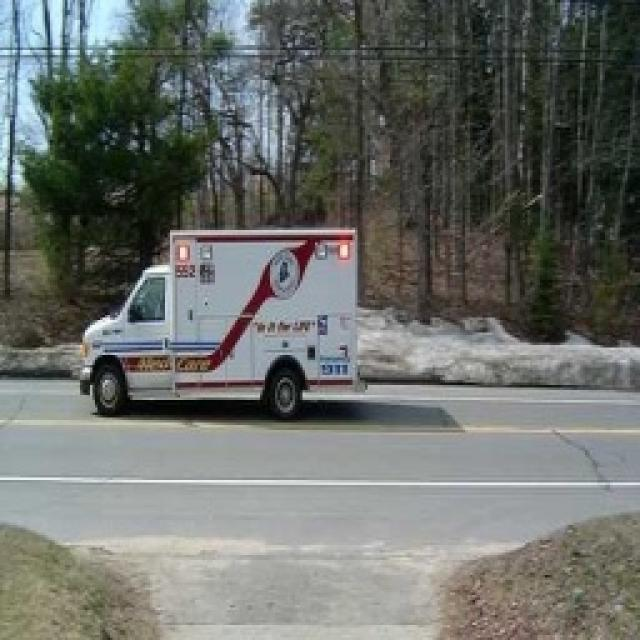emergency-vehicle: (69, 210, 380, 422)
